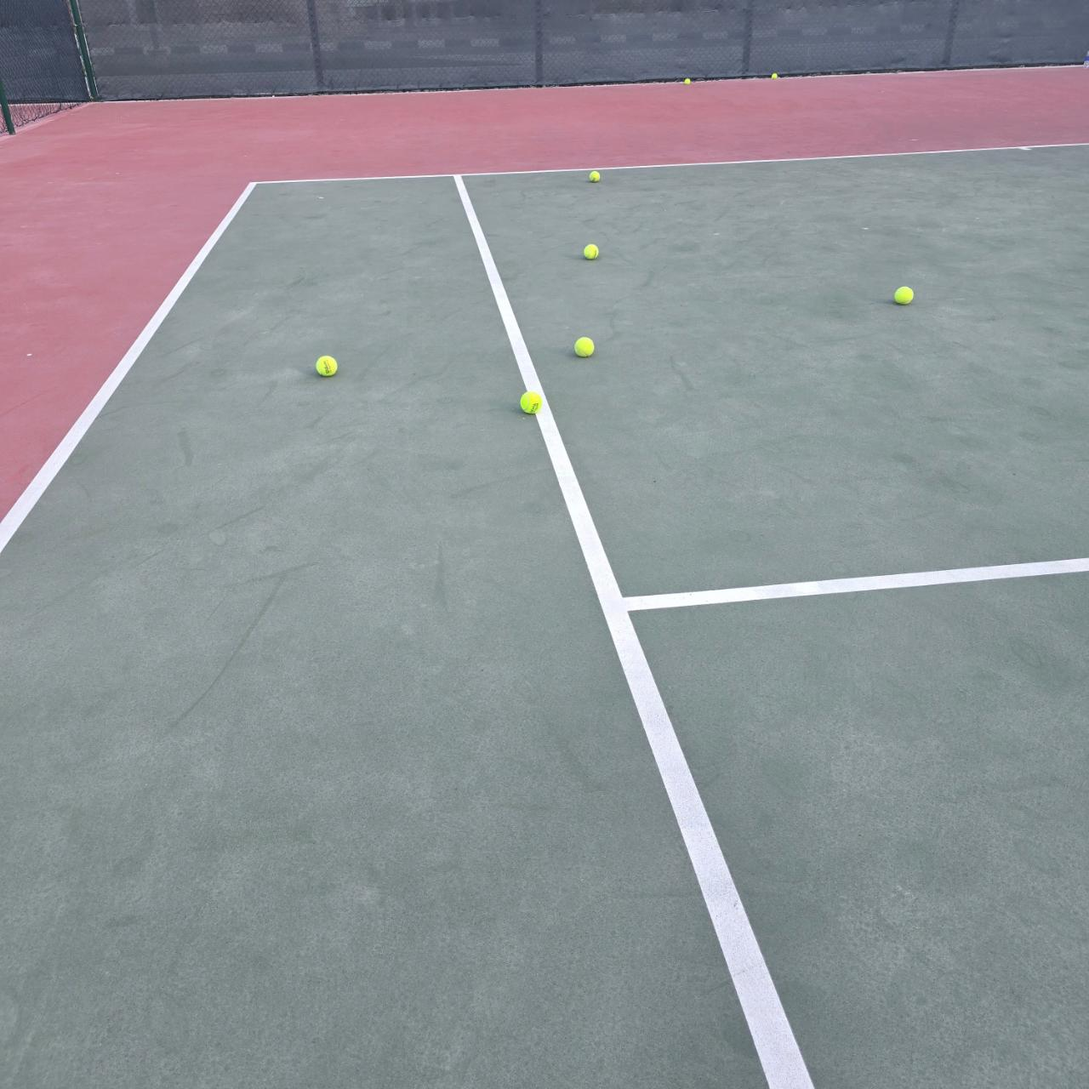tennis-ball: (314, 352, 338, 377), (518, 390, 542, 413), (573, 334, 595, 357), (892, 283, 913, 305), (582, 242, 598, 259), (586, 168, 601, 183), (684, 78, 691, 85), (772, 73, 778, 79)
